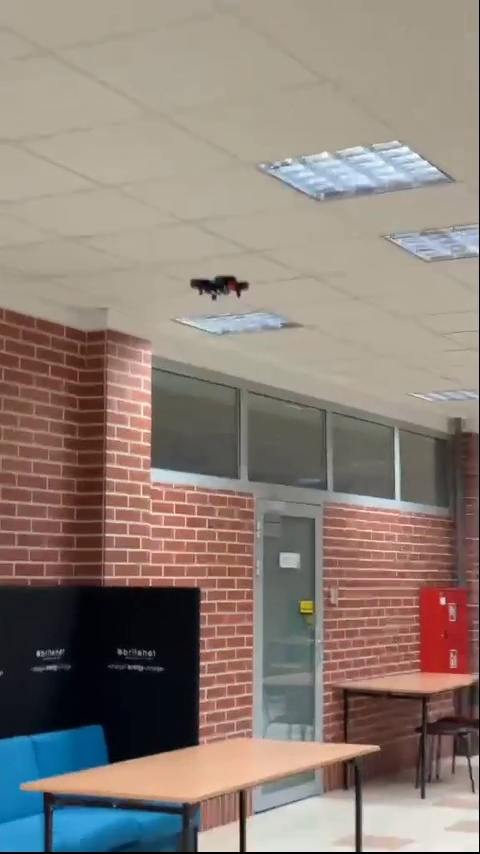drone: (188, 273, 248, 297)
